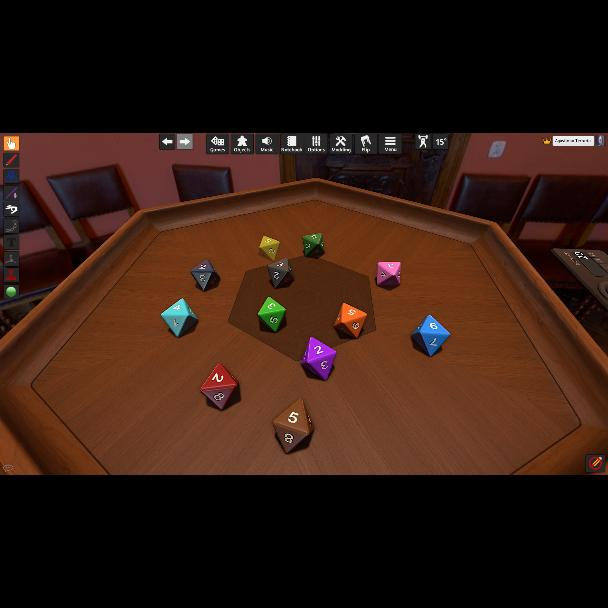d8: (271, 396, 317, 458), (201, 364, 238, 410), (410, 314, 447, 356), (302, 336, 336, 380), (162, 298, 198, 337), (335, 304, 366, 339), (190, 259, 220, 291), (258, 298, 286, 332), (267, 258, 293, 288), (259, 236, 281, 262), (377, 262, 399, 286), (302, 233, 324, 257)
